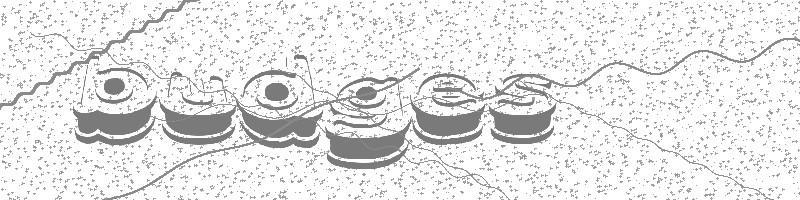b: (73, 55, 158, 146)
d: (237, 53, 325, 151)
e: (409, 73, 485, 145)
g: (325, 76, 412, 172)
s: (488, 73, 558, 147)
u: (159, 71, 237, 146)
